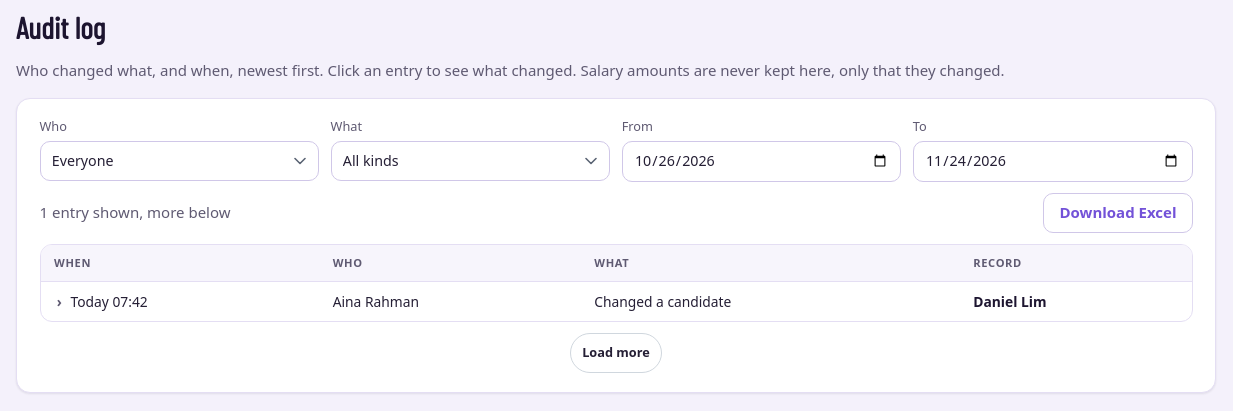
Test: Settings › Audit log › loads more with the cursor
Expected: the text "1 entry shown, more below" is shown, [40,202,231,225]
Click the button "Load more". click: x=616, y=353
box: [570,333,662,373]
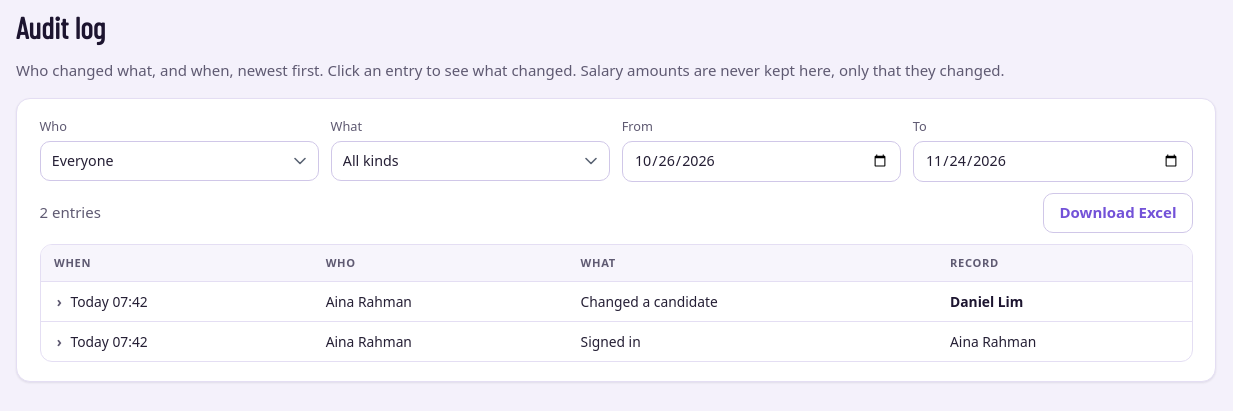
Expected: the text "Signed in" is shown, [567,322,936,361]
Expected: the text "2 entries" is shown, [40,202,101,225]
Expected: the button "Load more" is gone
